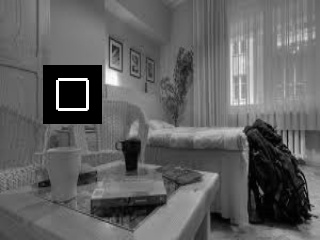square: (43, 65, 103, 124)
